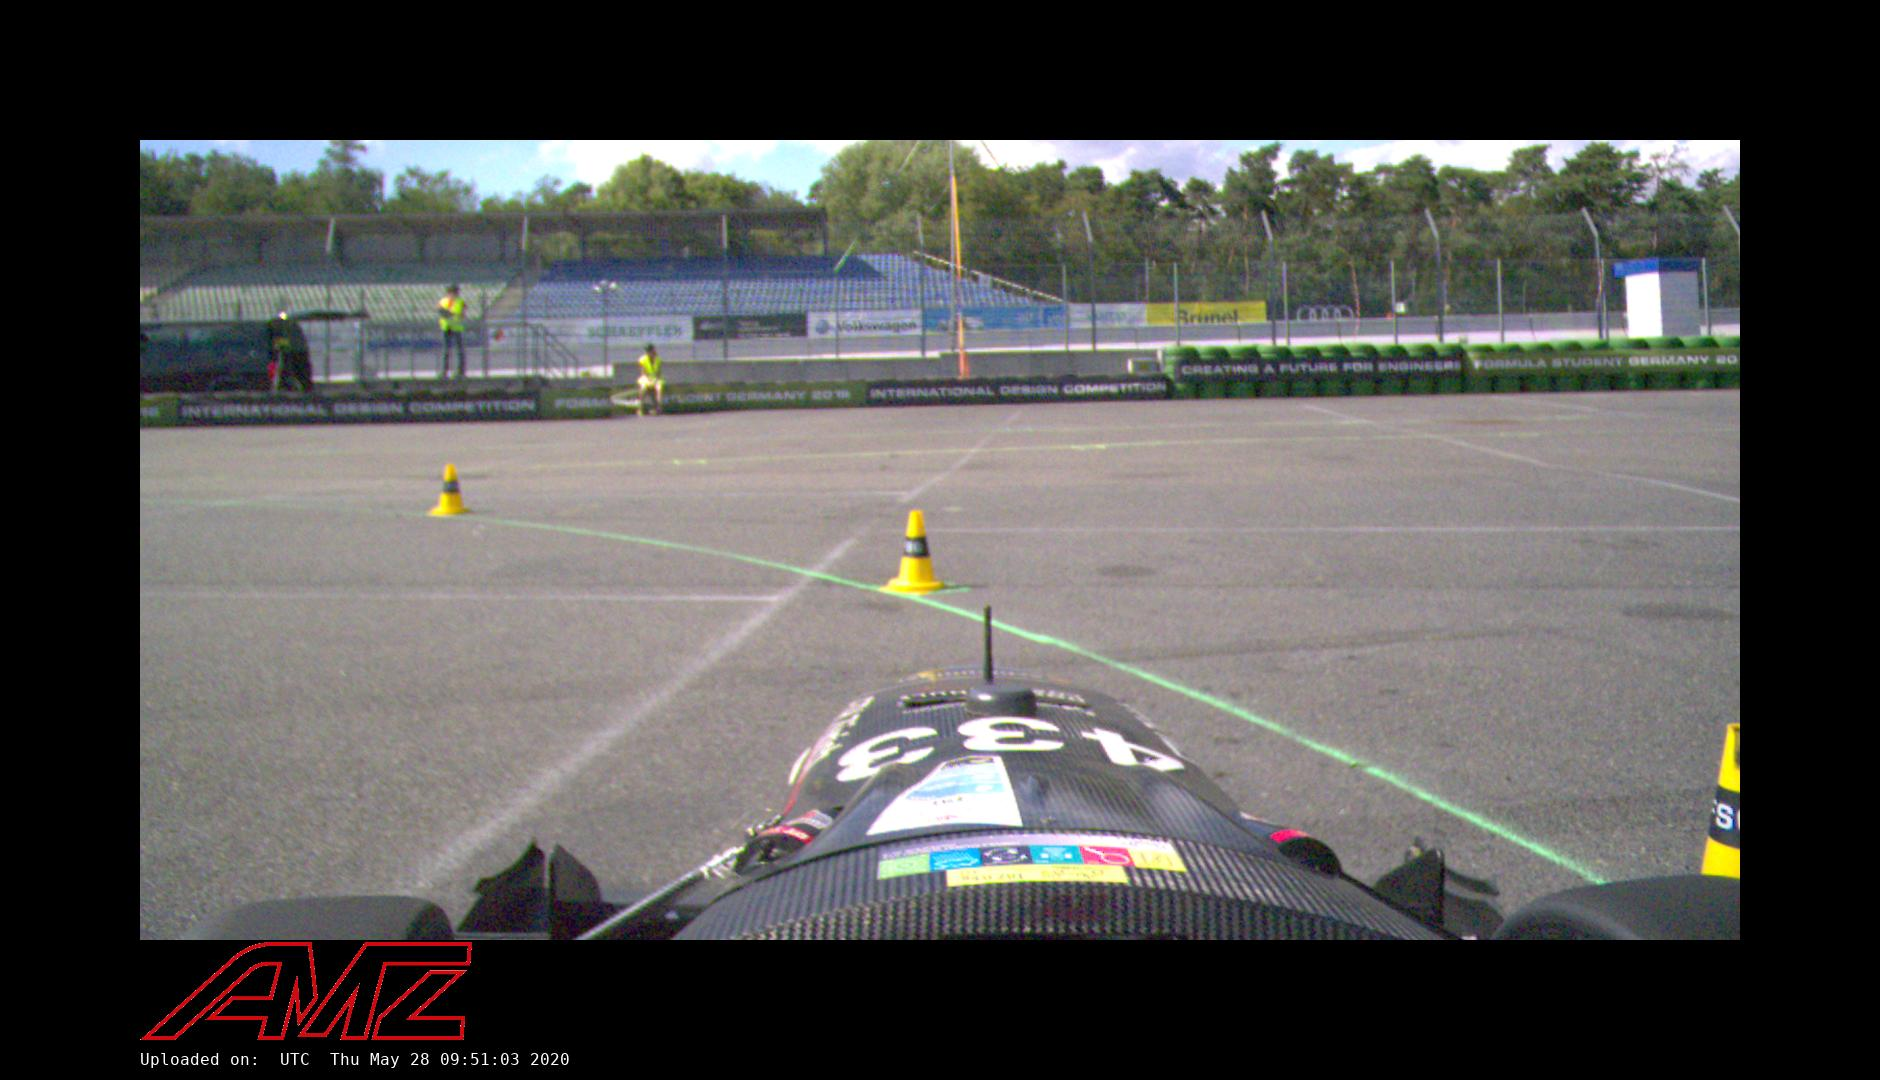yellow_cone: (884, 510, 946, 596), (429, 461, 467, 514)
